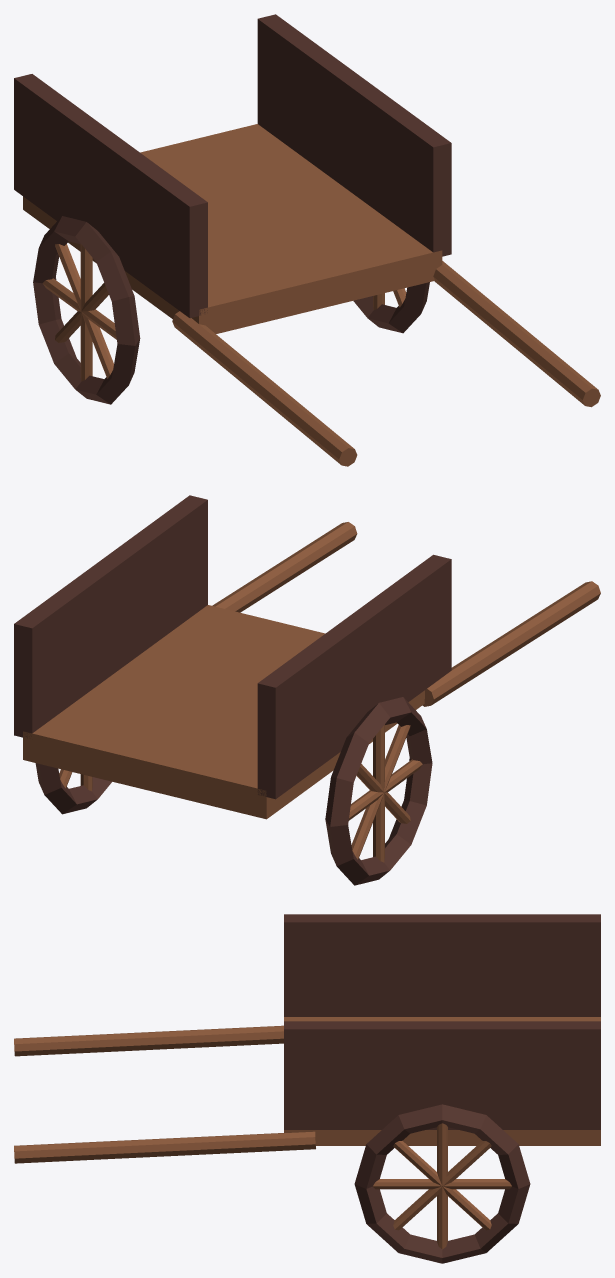
The model's file is cart.glb.
3 views of the same model, one above another, from view 1: azimuth 30°, elevation 25°; view 2: azimuth 150°, elevation 25°; view 3: azimuth 270°, elevation 25° (orthographic). The views are drawn at different scales.
Parts seen in each view (by area): view 1: cart; view 2: cart; view 3: cart.
Boxes of the visible parts, x1=… form: cart: x1=14, y1=14, x2=600, y2=466; cart: x1=14, y1=495, x2=600, y2=885; cart: x1=14, y1=914, x2=600, y2=1263.
Bounding box in the file's own units: 2.07 × 1.58 × 3.7.
